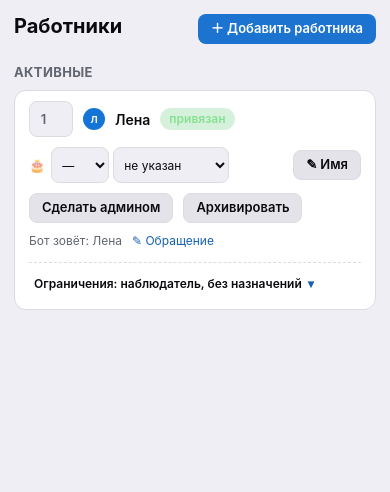
Test: ограничения работника свёрнуты › у наблюдателя галка назначений недоступна и показывает хранимое true
This screenshot has width=390, height=492.
Click the button with class "employee-restrictions-toggle". click: coordinates (174, 284)
box: [29,269,319,299]
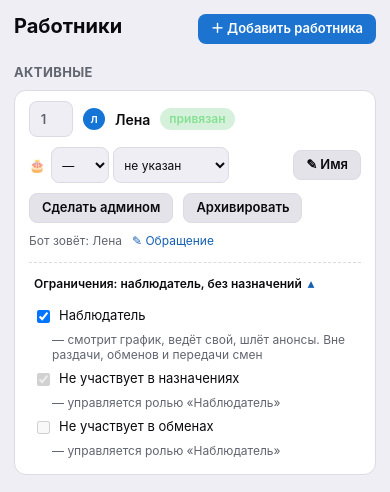
Check: the checkbox labelled "Не участвует в назначениях — управляется ролью «Наблюдатель»" is disabled, box [37,373,50,386]
Check: the checkbox labelled "Не участвует в назначениях — управляется ролью «Наблюдатель»" is checked, box [37,373,50,386]
